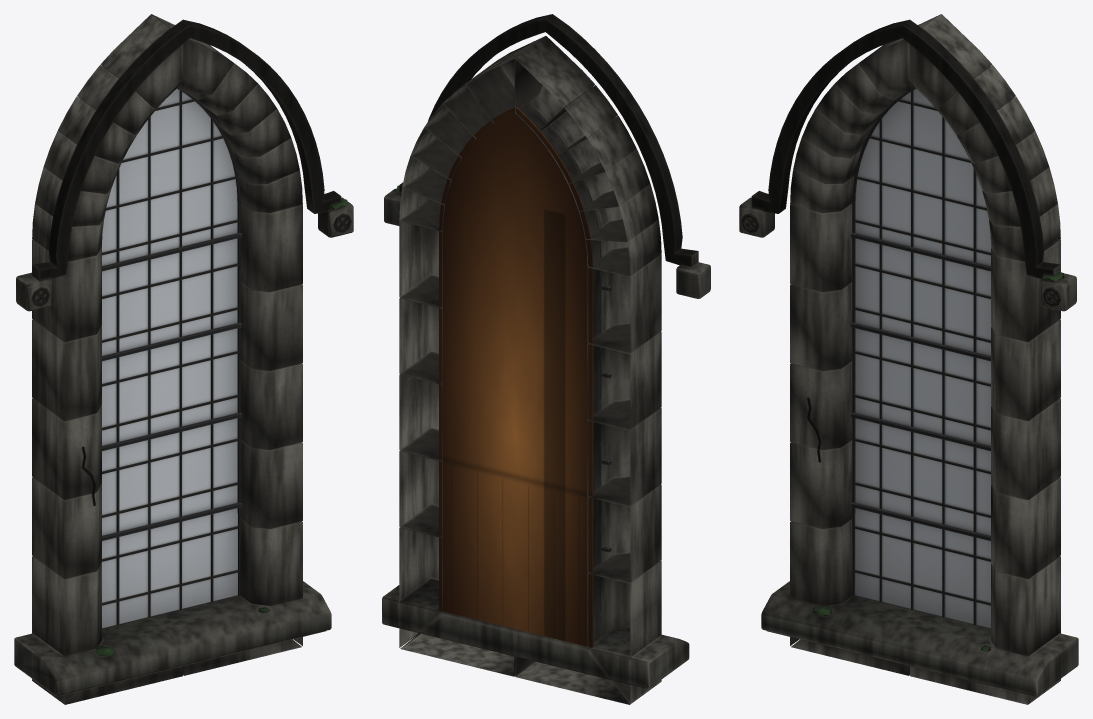
Rendered from LancetWindow.fbx.
3 renders of one model, left to right at view 1: azimuth 30°, elevation 25°; view 2: azimuth 150°, elevation 25°; view 3: azimuth 330°, elevation 25°, orthographic. The views are drawn at different scales.
Parts seen in each view (by area): view 1: LancetWindow_Main, LancetWindow_Glass; view 2: LancetWindow_Main, LancetWindow_Room; view 3: LancetWindow_Main, LancetWindow_Glass.
Part boxes in pixels (<box>): LancetWindow_Main: <box>14,14,353,704</box>; LancetWindow_Glass: <box>101,89,237,628</box>; LancetWindow_Main: <box>382,14,710,704</box>; LancetWindow_Room: <box>439,107,593,647</box>; LancetWindow_Main: <box>739,14,1078,704</box>; LancetWindow_Glass: <box>855,89,991,628</box>.
Bounding box in the file's own units: 438 × 839 × 100.
